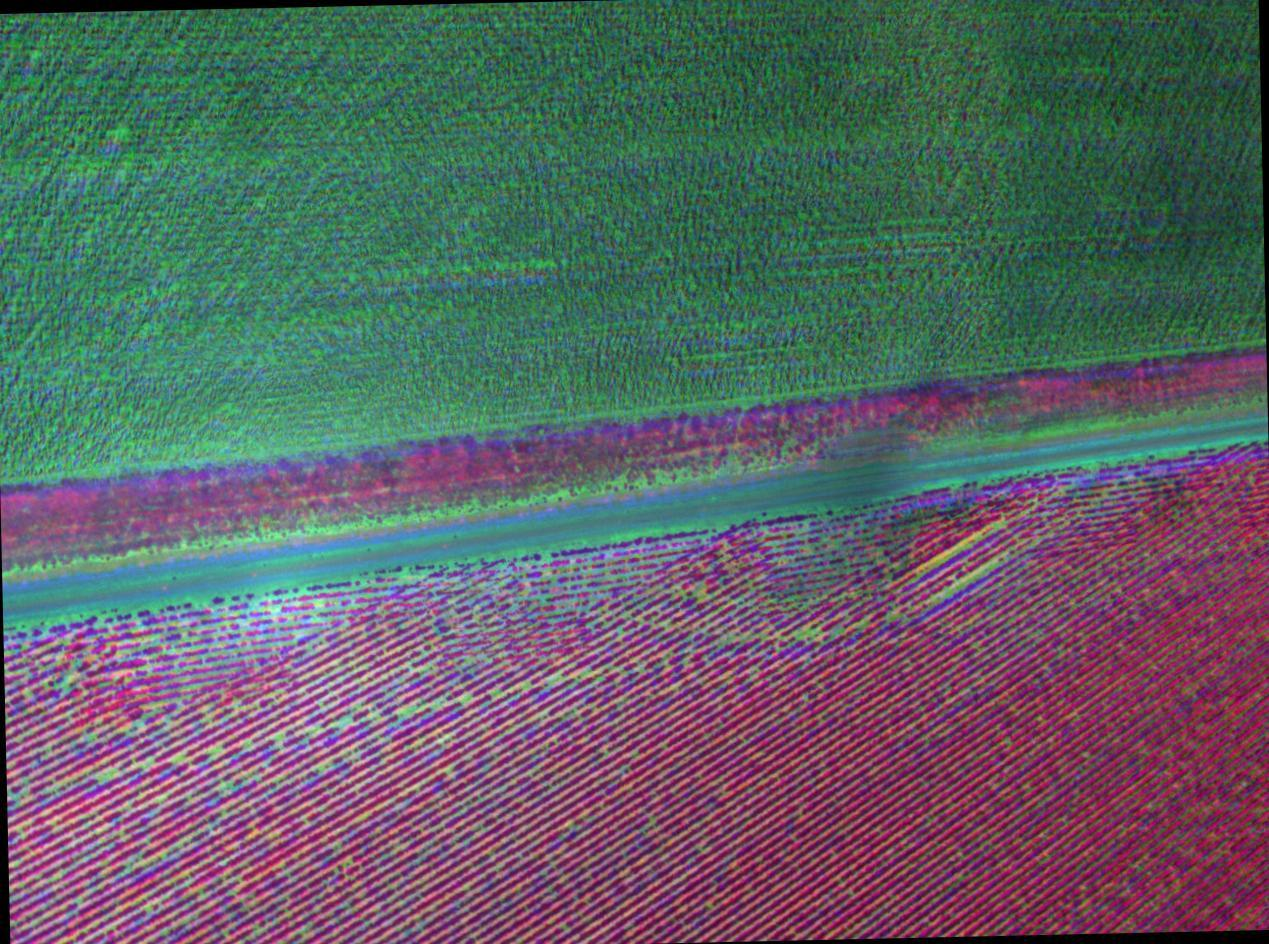dc: (808, 630, 814, 635), (946, 592, 951, 597), (552, 678, 557, 683), (311, 728, 316, 733), (223, 813, 227, 819), (406, 709, 411, 713), (1115, 486, 1119, 490), (997, 524, 1001, 528), (992, 564, 996, 568), (698, 591, 702, 595), (137, 854, 141, 858), (349, 860, 352, 863)
